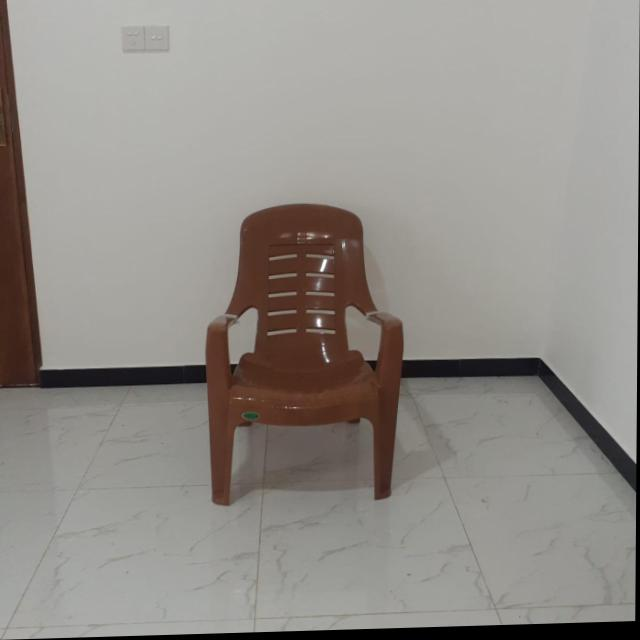Chair: (206, 202, 406, 511)
